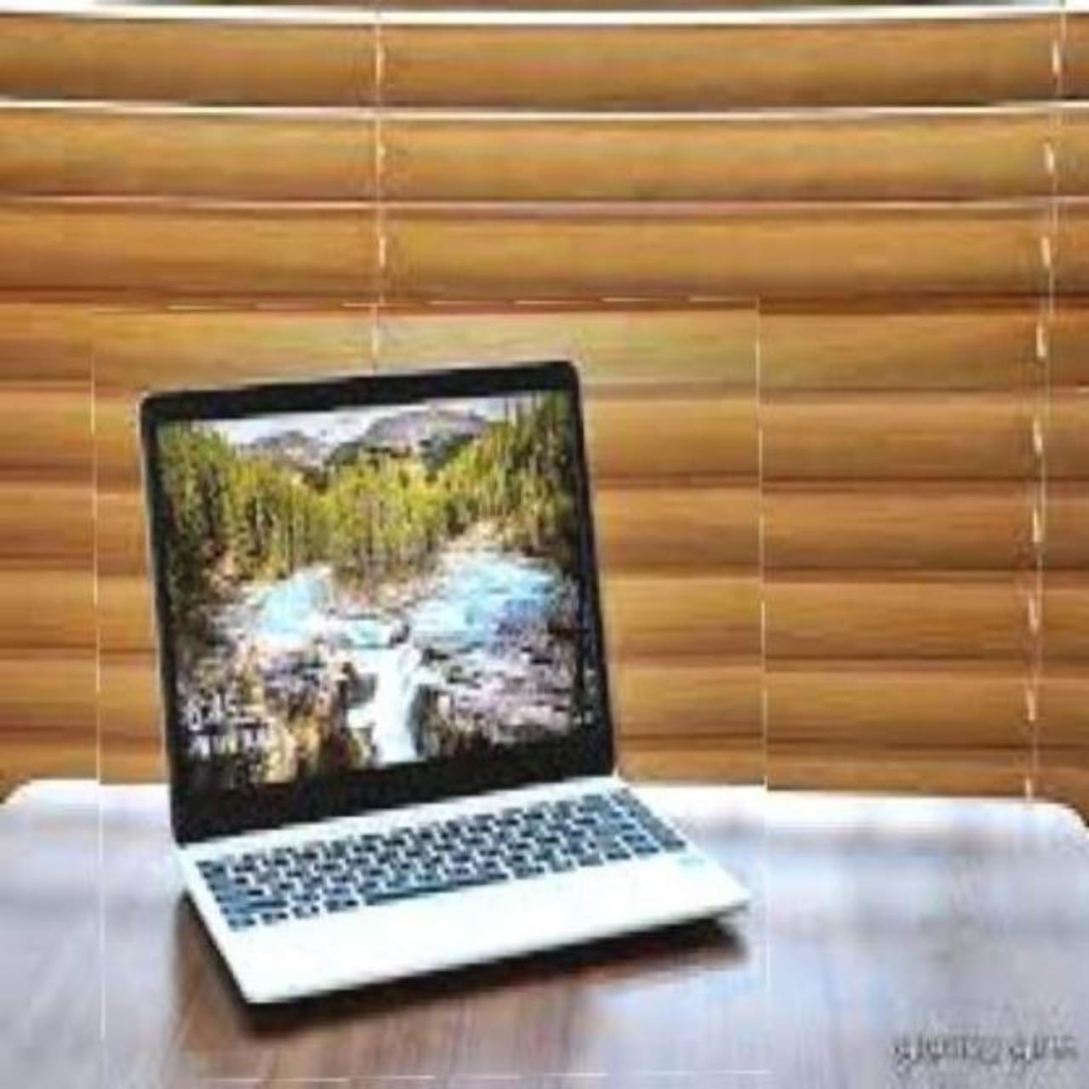laptop: (96, 301, 768, 1080)
